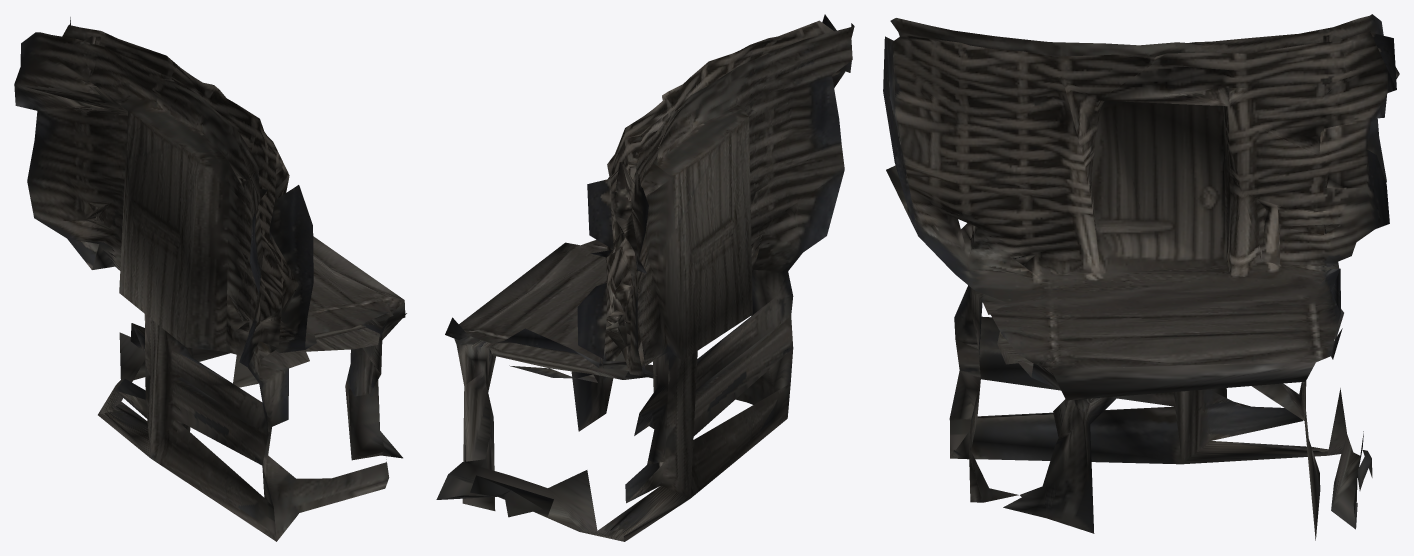
File: horaro_woven_entry.glb
3 views of the same model, side by side, from view 1: azimuth 30°, elevation 25°; view 2: azimuth 150°, elevation 25°; view 3: azimuth 270°, elevation 25° (orthographic). The views are drawn at different scales.
Parts seen in each view (by area): view 1: horaro_woven_entry; view 2: horaro_woven_entry; view 3: horaro_woven_entry.
Boxes of the visible parts, left/top/right/bottom form: horaro_woven_entry: left=14, top=17, right=406, bottom=541; horaro_woven_entry: left=436, top=14, right=854, bottom=541; horaro_woven_entry: left=883, top=14, right=1399, bottom=540.
Size of the model in its own units: 1.79 by 2.58 by 2.89.
1 material, 1 textured.
